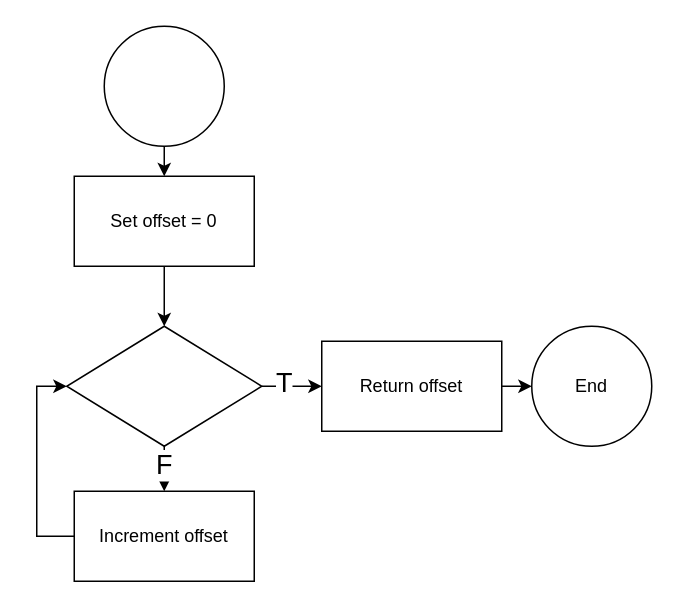
Some shapes in this 678 by 608 pixel diagram are drawn without their labels. The centre of each missing label's shape, as x and y in pixels:
"Check if char == \0" belongs at [163,385].
"Start" belongs at [163,85].
